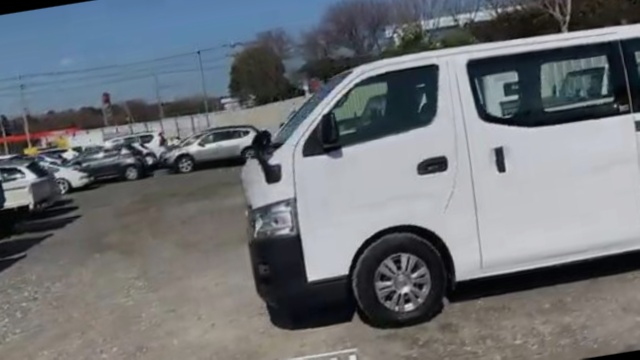van: (228, 3, 640, 348)
